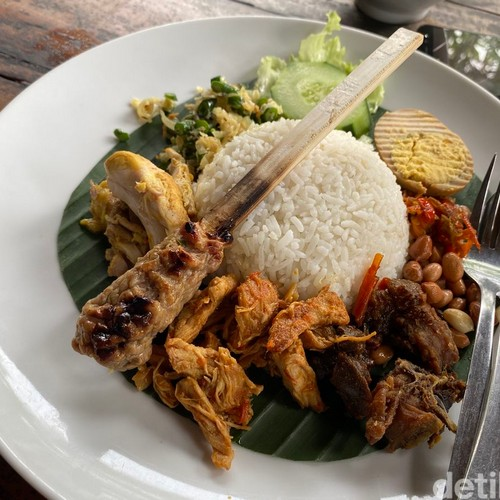nasi campur bali: (80, 59, 426, 442)
